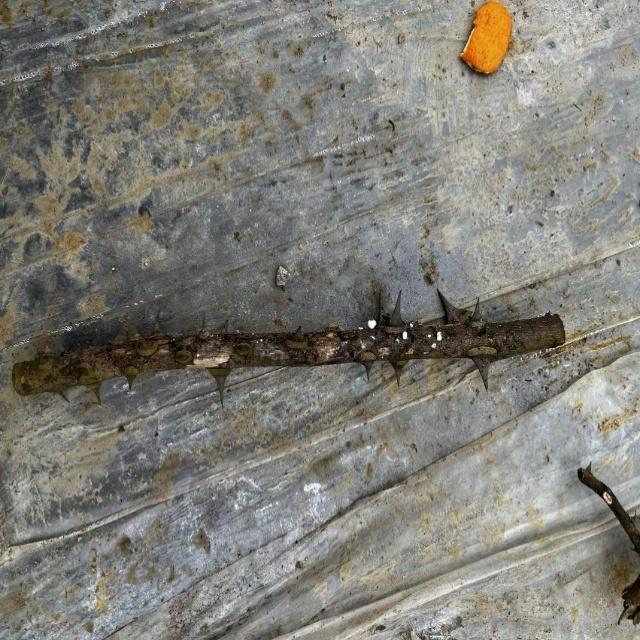branch: (10, 307, 573, 400)
